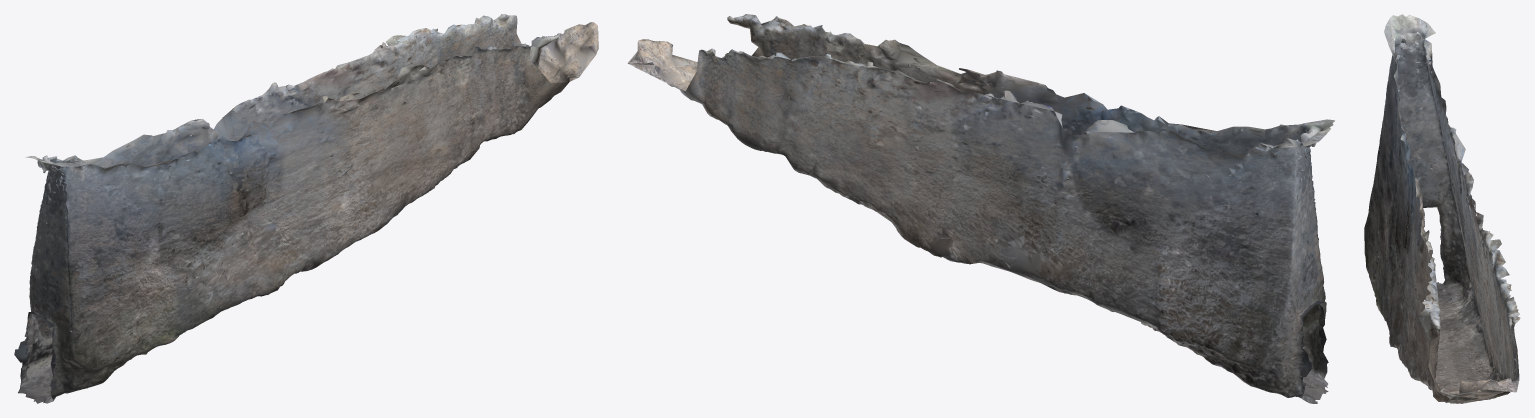
The model's file is Tafos24_Entrance2.fbx.
3 renders of one model, left to right at view 1: azimuth 30°, elevation 25°; view 2: azimuth 150°, elevation 25°; view 3: azimuth 270°, elevation 25°, orthographic. The views are drawn at different scales.
Visible parts, largest first — view 1: Tafos24_Entrance2; view 2: Tafos24_Entrance2; view 3: Tafos24_Entrance2.
Boxes of the visible parts, x1=… form: Tafos24_Entrance2: x1=14, y1=14, x2=598, y2=403; Tafos24_Entrance2: x1=627, y1=14, x2=1334, y2=403; Tafos24_Entrance2: x1=1364, y1=14, x2=1520, y2=403.
Size of the model in its own units: 1373 by 280 by 537.
